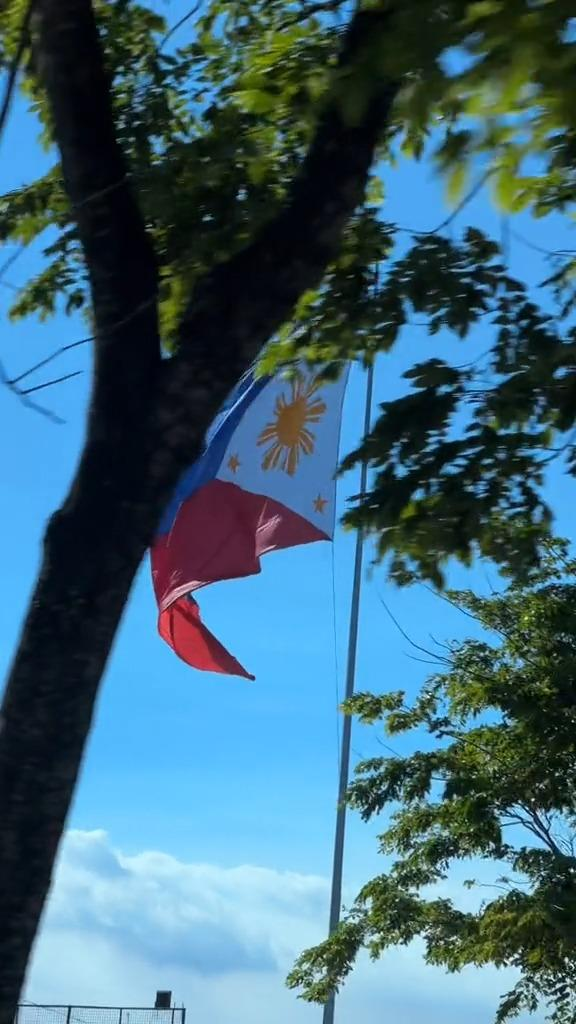Philippines: (141, 295, 361, 685)
